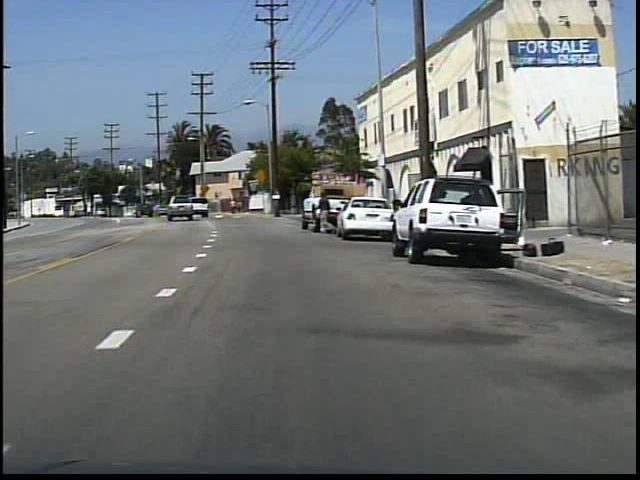person: (316, 185, 340, 238), (229, 197, 238, 218), (236, 199, 244, 216)
